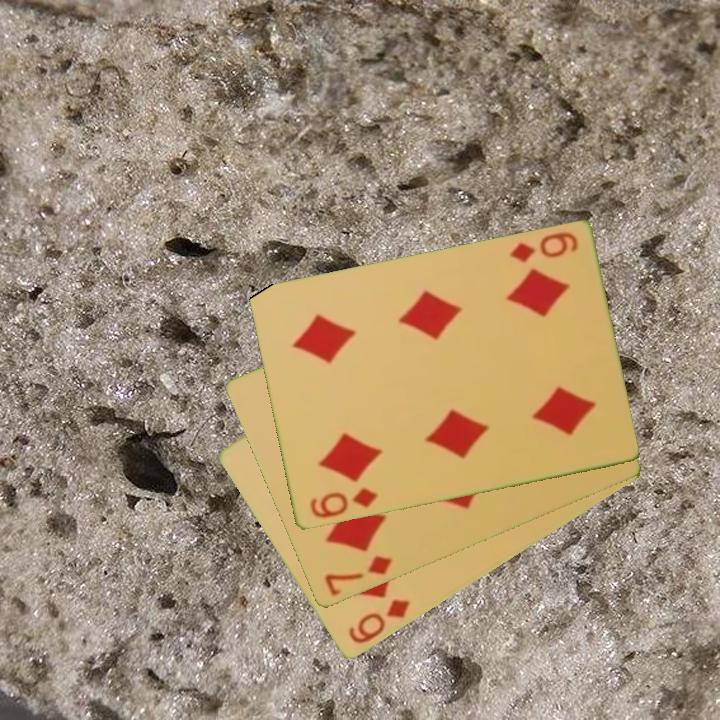6d: (344, 596, 413, 648), (505, 229, 581, 266), (306, 485, 380, 522)
7d: (320, 552, 396, 600)
